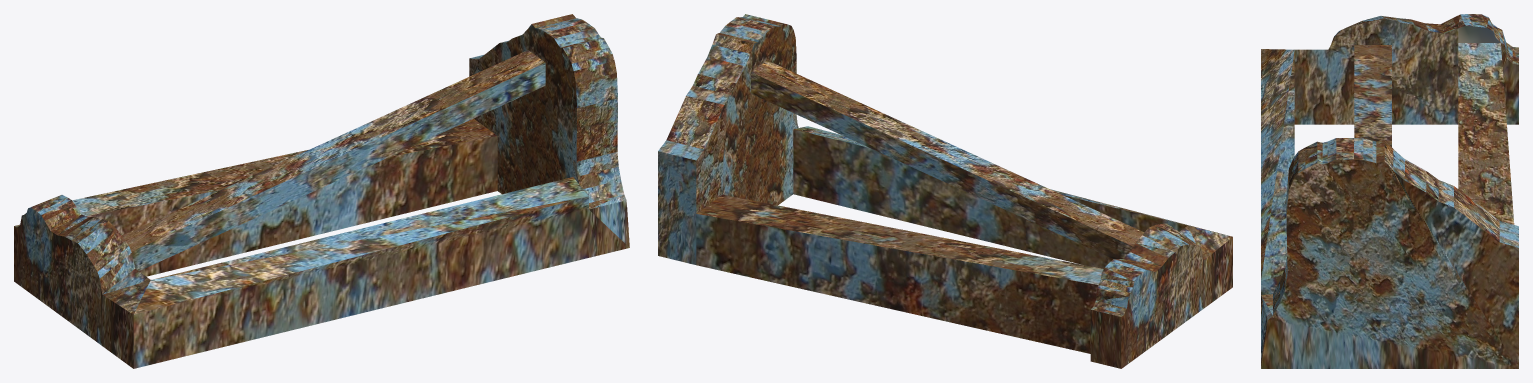
Rendered from muro4.fbx.
3 renders of one model, left to right at view 1: azimuth 30°, elevation 25°; view 2: azimuth 150°, elevation 25°; view 3: azimuth 270°, elevation 25°, orthographic. The views are drawn at different scales.
Parts seen in each view (by area): view 1: Camera_001; view 2: Camera_001; view 3: Camera_001.
Boxes of the visible parts, left/top/right/bottom form: Camera_001: left=14, top=14, right=629, bottom=368; Camera_001: left=658, top=14, right=1232, bottom=368; Camera_001: left=1261, top=14, right=1518, bottom=368.
Size of the model in its own units: 4.32 by 1.61 by 1.8.
2 materials, 1 textured.
